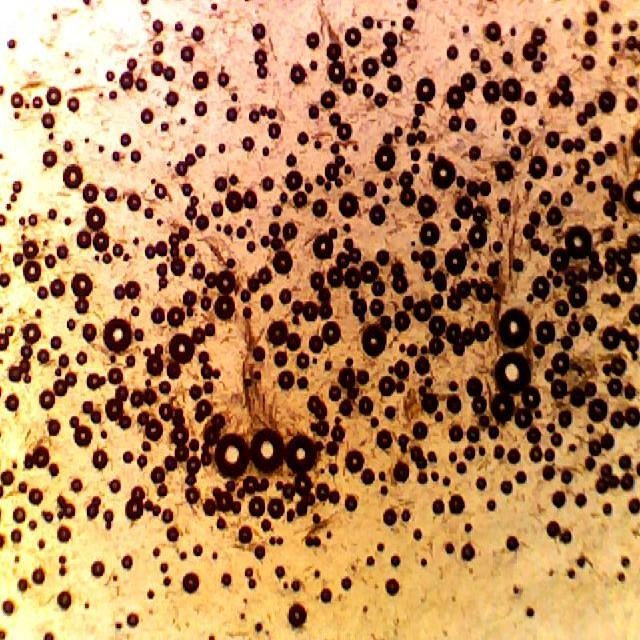microbeads: (250, 425, 286, 477), (212, 430, 248, 480), (286, 422, 318, 478), (493, 304, 533, 348), (494, 350, 530, 396)
